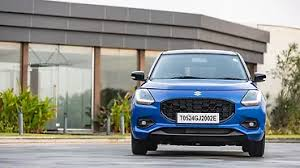Swift: (133, 48, 268, 165)
